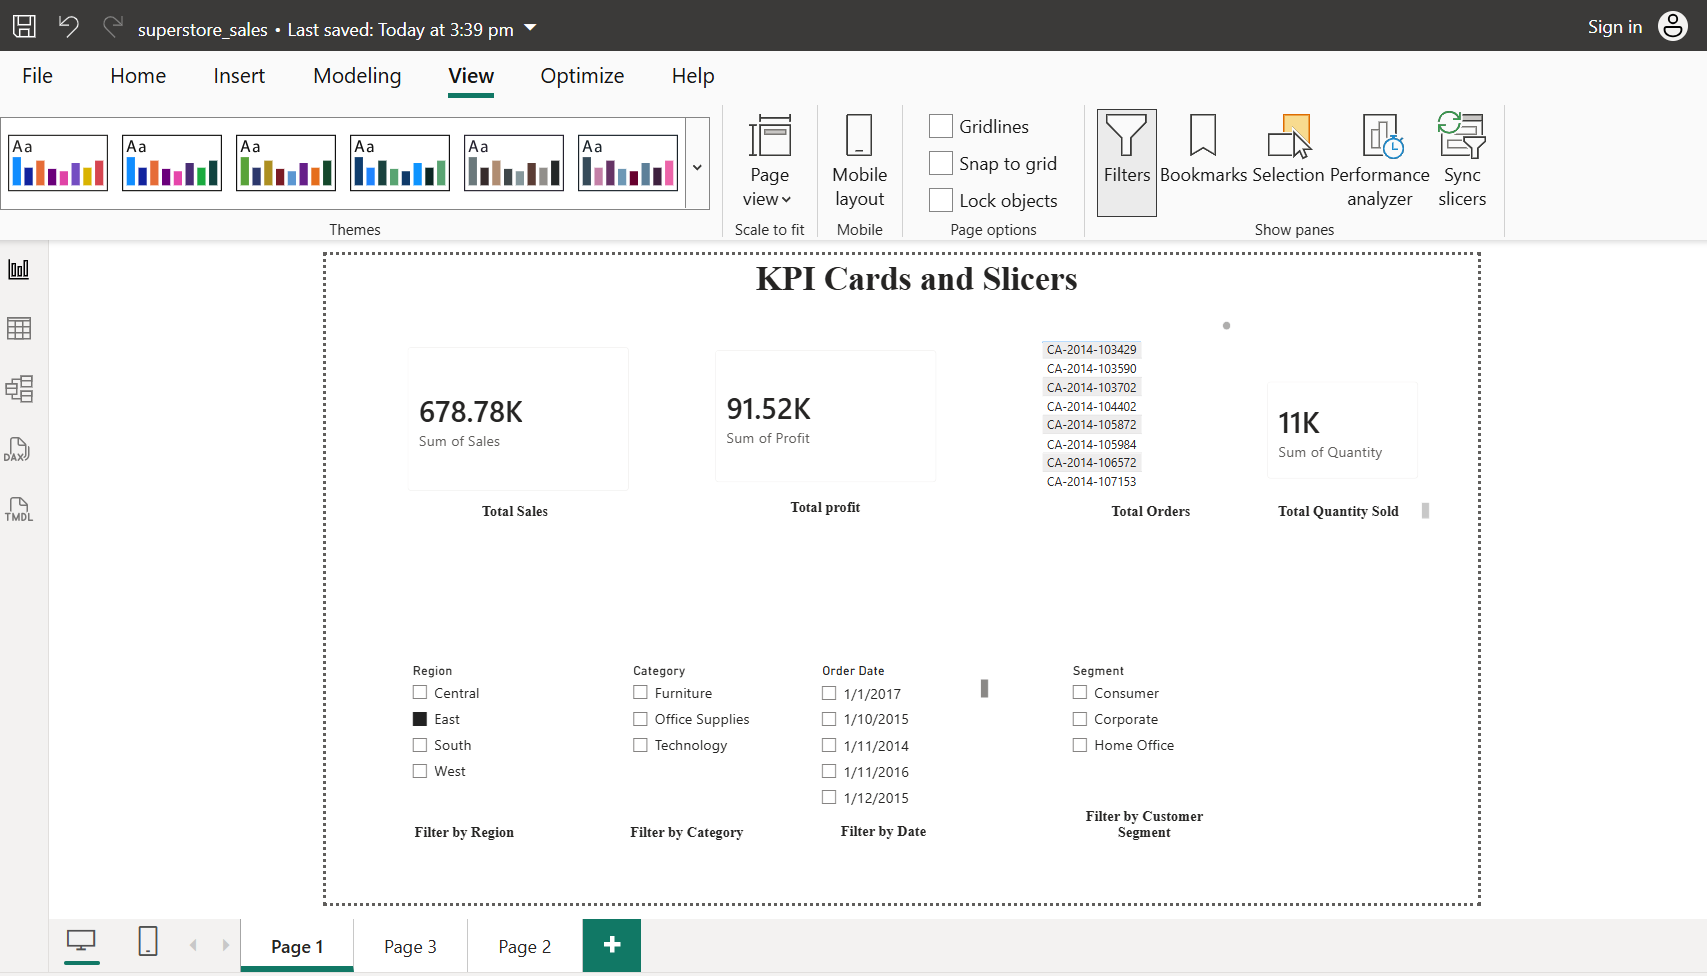

This screenshot's page, from the dashboard's own definition file:
{"tool":"powerbi","page":{"name":"Page 1","canvas":[1280,720],"ordinal":0},"visuals":[{"type":"cardVisual","fields":{"Data":["Sum(Sample - Superstore.Sales)"]},"box":[73,85,280,194],"z":0},{"type":"cardVisual","fields":{"Data":["Sum(Sample - Superstore.Profit)"]},"box":[415,89,280,181],"z":1000},{"type":"tableEx","fields":{"Values":["Sample - Superstore.Order ID"]},"box":[790,64,220,201],"z":2000},{"type":"slicer","fields":{"Values":["Sample - Superstore.Category"]},"box":[329,449,173,144],"z":8000},{"type":"slicer","fields":{"Values":["Sample - Superstore.Region"]},"box":[84,449,203,177],"z":9000},{"type":"slicer","fields":{"Values":["Sample - Superstore.Order Date"]},"box":[539,449,202,177],"z":10000},{"type":"cardVisual","fields":{"Data":["Sum(Sample - Superstore.Quantity)"]},"box":[1029,123,202,142],"z":10001},{"type":"slicer","fields":{"Values":["Sample - Superstore.Segment"]},"box":[816,449,202,159],"z":10002},{"type":"textbox","box":[361,0,589,89],"z":10003},{"type":"textbox","box":[84,270,253,38],"z":10004},{"type":"textbox","box":[428,265,253,43],"z":10005},{"type":"textbox","box":[790,270,253,38],"z":10006},{"type":"textbox","box":[1029,270,202,28],"z":10007},{"type":"textbox","box":[93,626,145,39],"z":10008},{"type":"textbox","box":[300,627,202,35],"z":10009},{"type":"textbox","box":[518,625,202,37],"z":10010},{"type":"textbox","box":[808,608,202,49],"z":10011}]}

Visuals, with their boxes on the page's 1280x720 design canvas (x1, y1, x2, y2). These are canvas units, not pixel positions in the 1707x976 screenshot, which may show the page scaled, cropped or inside an application window:
cardVisual - Sum(Sample - Superstore.Sales): <box>73,85,353,279</box>
cardVisual - Sum(Sample - Superstore.Profit): <box>415,89,695,270</box>
tableEx - Sample - Superstore.Order ID: <box>790,64,1010,265</box>
slicer - Sample - Superstore.Category: <box>329,449,502,593</box>
slicer - Sample - Superstore.Region: <box>84,449,287,626</box>
slicer - Sample - Superstore.Order Date: <box>539,449,741,626</box>
cardVisual - Sum(Sample - Superstore.Quantity): <box>1029,123,1231,265</box>
slicer - Sample - Superstore.Segment: <box>816,449,1018,608</box>
textbox: <box>361,0,950,89</box>
textbox: <box>84,270,337,308</box>
textbox: <box>428,265,681,308</box>
textbox: <box>790,270,1043,308</box>
textbox: <box>1029,270,1231,298</box>
textbox: <box>93,626,238,665</box>
textbox: <box>300,627,502,662</box>
textbox: <box>518,625,720,662</box>
textbox: <box>808,608,1010,657</box>
